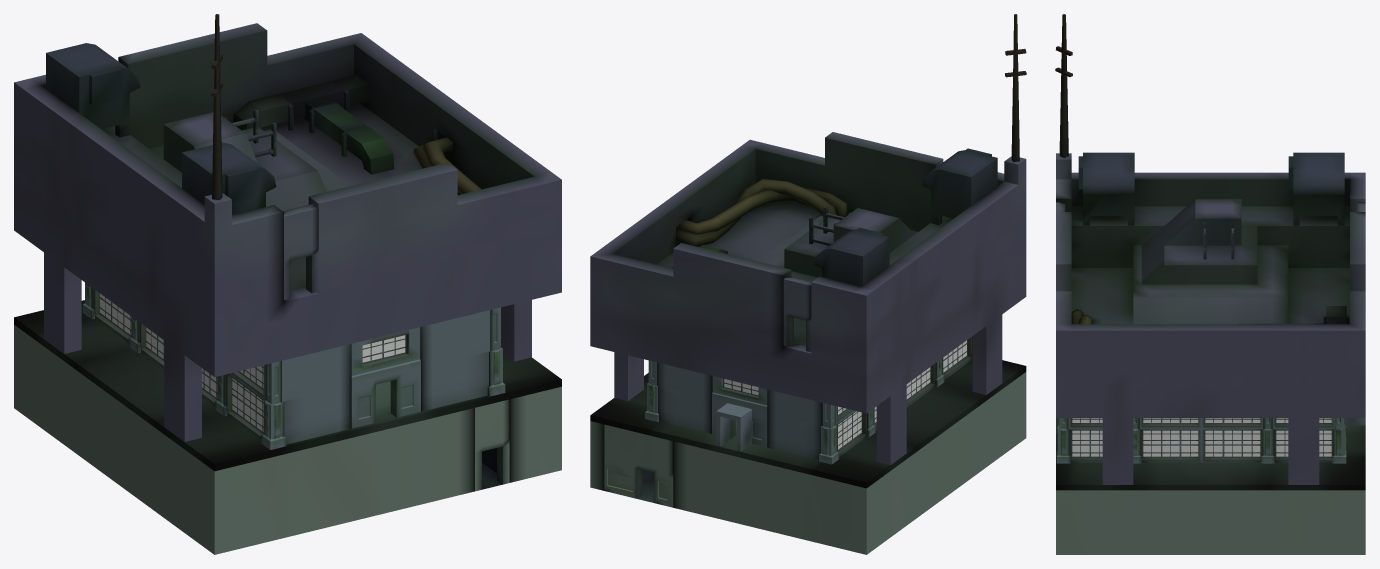
3 views of the same model, side by side, from view 1: azimuth 30°, elevation 25°; view 2: azimuth 150°, elevation 25°; view 3: azimuth 270°, elevation 25° (orthographic). The views are drawn at different scales.
Parts seen in each view (by area): view 1: pyramid roof02, two path steamtunnel01, small warehouse01, metal, Object01, glass small warehouse01; view 2: pyramid roof02, two path steamtunnel01, metal, small warehouse01, Object01, glass small warehouse01; view 3: pyramid roof02, two path steamtunnel01, metal, Object01, small warehouse01, glass small warehouse01.
Boxes of the visible parts, bbox=[...] form: pyramid roof02: bbox=[14, 23, 561, 441]; two path steamtunnel01: bbox=[14, 325, 561, 554]; small warehouse01: bbox=[82, 282, 505, 449]; metal: bbox=[46, 14, 481, 433]; Object01: bbox=[14, 300, 561, 471]; glass small warehouse01: bbox=[100, 293, 405, 431]; pyramid roof02: bbox=[590, 132, 1026, 464]; two path steamtunnel01: bbox=[590, 372, 1026, 554]; metal: bbox=[671, 14, 1026, 451]; small warehouse01: bbox=[645, 336, 972, 464]; Object01: bbox=[590, 360, 1026, 488]; glass small warehouse01: bbox=[724, 340, 966, 449]; pyramid roof02: bbox=[1056, 153, 1365, 484]; two path steamtunnel01: bbox=[1056, 490, 1365, 554]; metal: bbox=[1055, 14, 1349, 457]; Object01: bbox=[1056, 418, 1365, 490]; small warehouse01: bbox=[1056, 418, 1365, 463]; glass small warehouse01: bbox=[1072, 418, 1331, 456].
Size of the model in its own units: 2011 by 3140 by 2004.
